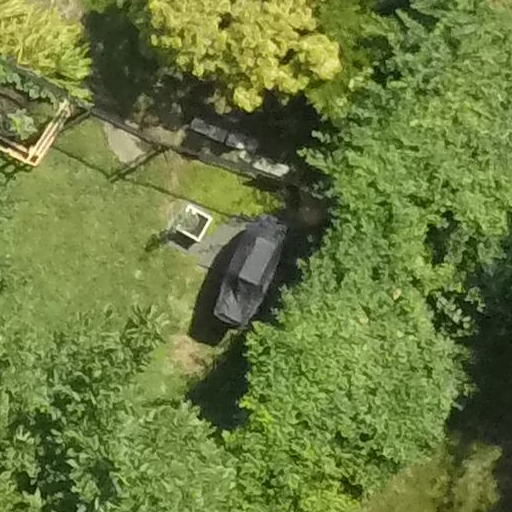barbecue: (191, 208, 310, 368)
container: (167, 197, 215, 244)
